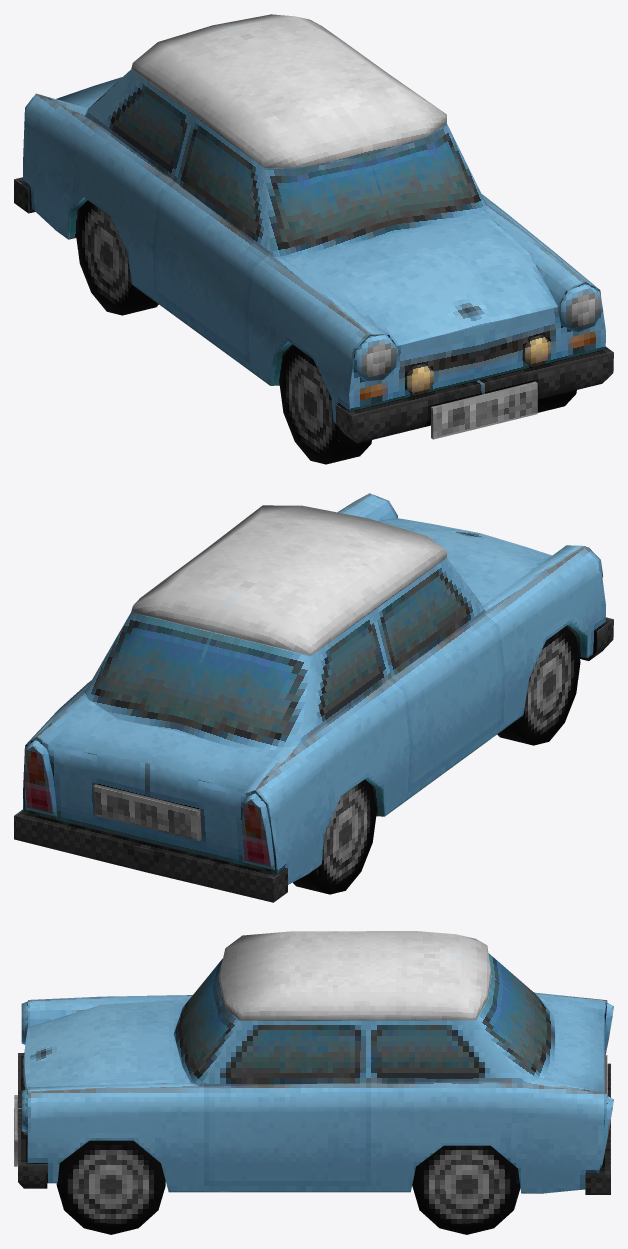
Rendered from car-trabant.glb.
3 views of the same model, one above another, from view 1: azimuth 30°, elevation 25°; view 2: azimuth 150°, elevation 25°; view 3: azimuth 270°, elevation 25° (orthographic). The views are drawn at different scales.
Visible parts, largest first — view 1: Cube.002_ddr_civilian_0; view 2: Cube.002_ddr_civilian_0; view 3: Cube.002_ddr_civilian_0.
Part boxes in pixels (x1=…): Cube.002_ddr_civilian_0: x1=14, y1=14, x2=613, y2=464; Cube.002_ddr_civilian_0: x1=14, y1=493, x2=613, y2=902; Cube.002_ddr_civilian_0: x1=14, y1=931, x2=613, y2=1234.
Bounding box in the file's own units: 1.42 × 1.36 × 3.23.
1 material, 1 textured.
